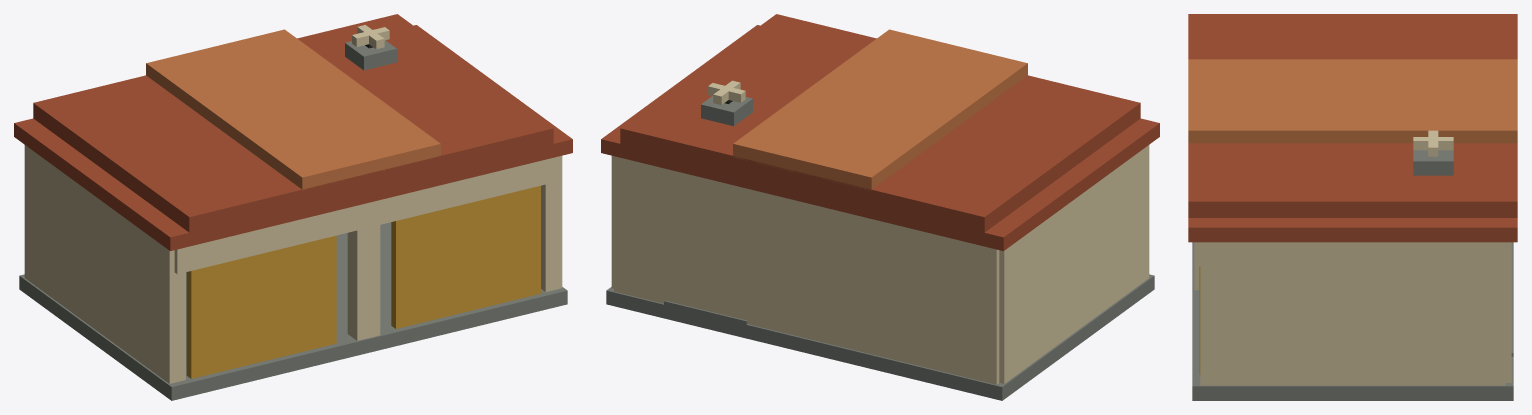
The model's file is warehouse.gltf.
3 renders of one model, left to right at view 1: azimuth 30°, elevation 25°; view 2: azimuth 150°, elevation 25°; view 3: azimuth 270°, elevation 25°, orthographic. The views are drawn at different scales.
Parts seen in each view (by area): view 1: ridge, roofStep-1, side-1, roofStep1, doorPanel0, doorPanel1, foundation, roofBase, frontLintel, centerPier, side1, ventHousing; view 2: back, ridge, roofStep-1, side-1, roofStep1, roofBase, foundation, ventHousing, liftPlatform; view 3: side1, ridge, roofStep1, roofStep-1, roofBase, foundation, ventHousing, back, ventBladeZ.
Boxes of the visible parts, x1,y1,x2,y2 form: ridge: (146, 29, 440, 190); roofStep-1: (33, 75, 379, 232); side-1: (24, 145, 185, 383); roofStep1: (297, 14, 553, 189); doorPanel0: (186, 235, 336, 378); doorPanel1: (391, 185, 540, 328); foundation: (19, 222, 567, 400); roofBase: (14, 25, 572, 250); frontLintel: (174, 156, 559, 274); centerPier: (347, 213, 380, 340); side1: (541, 155, 562, 291); ventHousing: (345, 40, 396, 70); back: (614, 156, 999, 384); ridge: (733, 29, 1027, 190); roofStep-1: (794, 75, 1140, 232); side-1: (999, 145, 1149, 383); roofStep1: (620, 14, 876, 185); roofBase: (601, 25, 1159, 250); foundation: (606, 274, 1154, 400); ventHousing: (701, 96, 752, 126); liftPlatform: (664, 300, 747, 329); side1: (1200, 242, 1505, 385); ridge: (1188, 59, 1517, 143); roofStep1: (1188, 143, 1517, 217); roofStep-1: (1188, 14, 1517, 59); roofBase: (1188, 218, 1517, 242); foundation: (1192, 242, 1513, 400); ventHousing: (1413, 150, 1453, 175); back: (1505, 242, 1511, 382); ventBladeZ: (1413, 137, 1453, 150).
Bounding box in the file's own units: 6.1 × 3.01 × 4.1.
